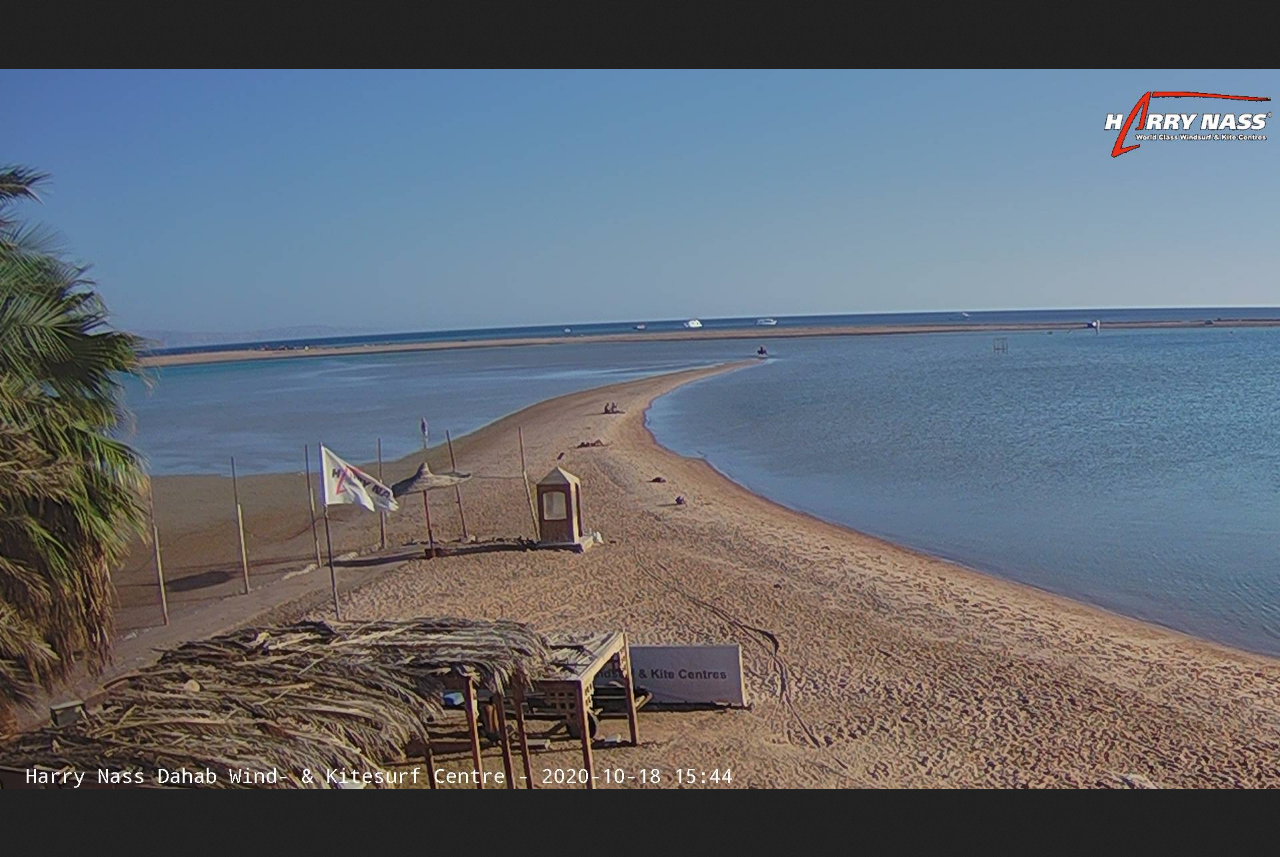maybe: (316, 437, 404, 515)
